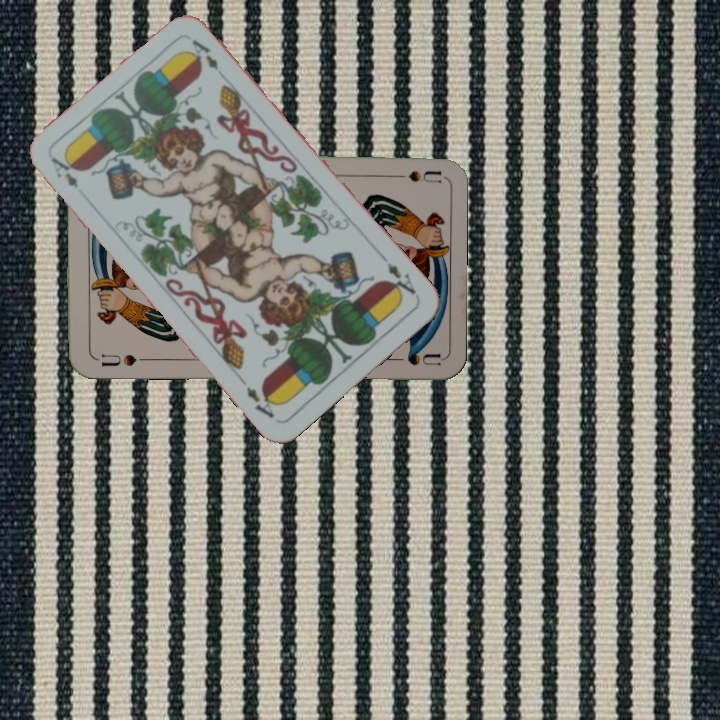EA: (383, 258, 418, 302), (47, 153, 81, 191)
SU: (382, 167, 441, 186), (97, 350, 150, 369)
